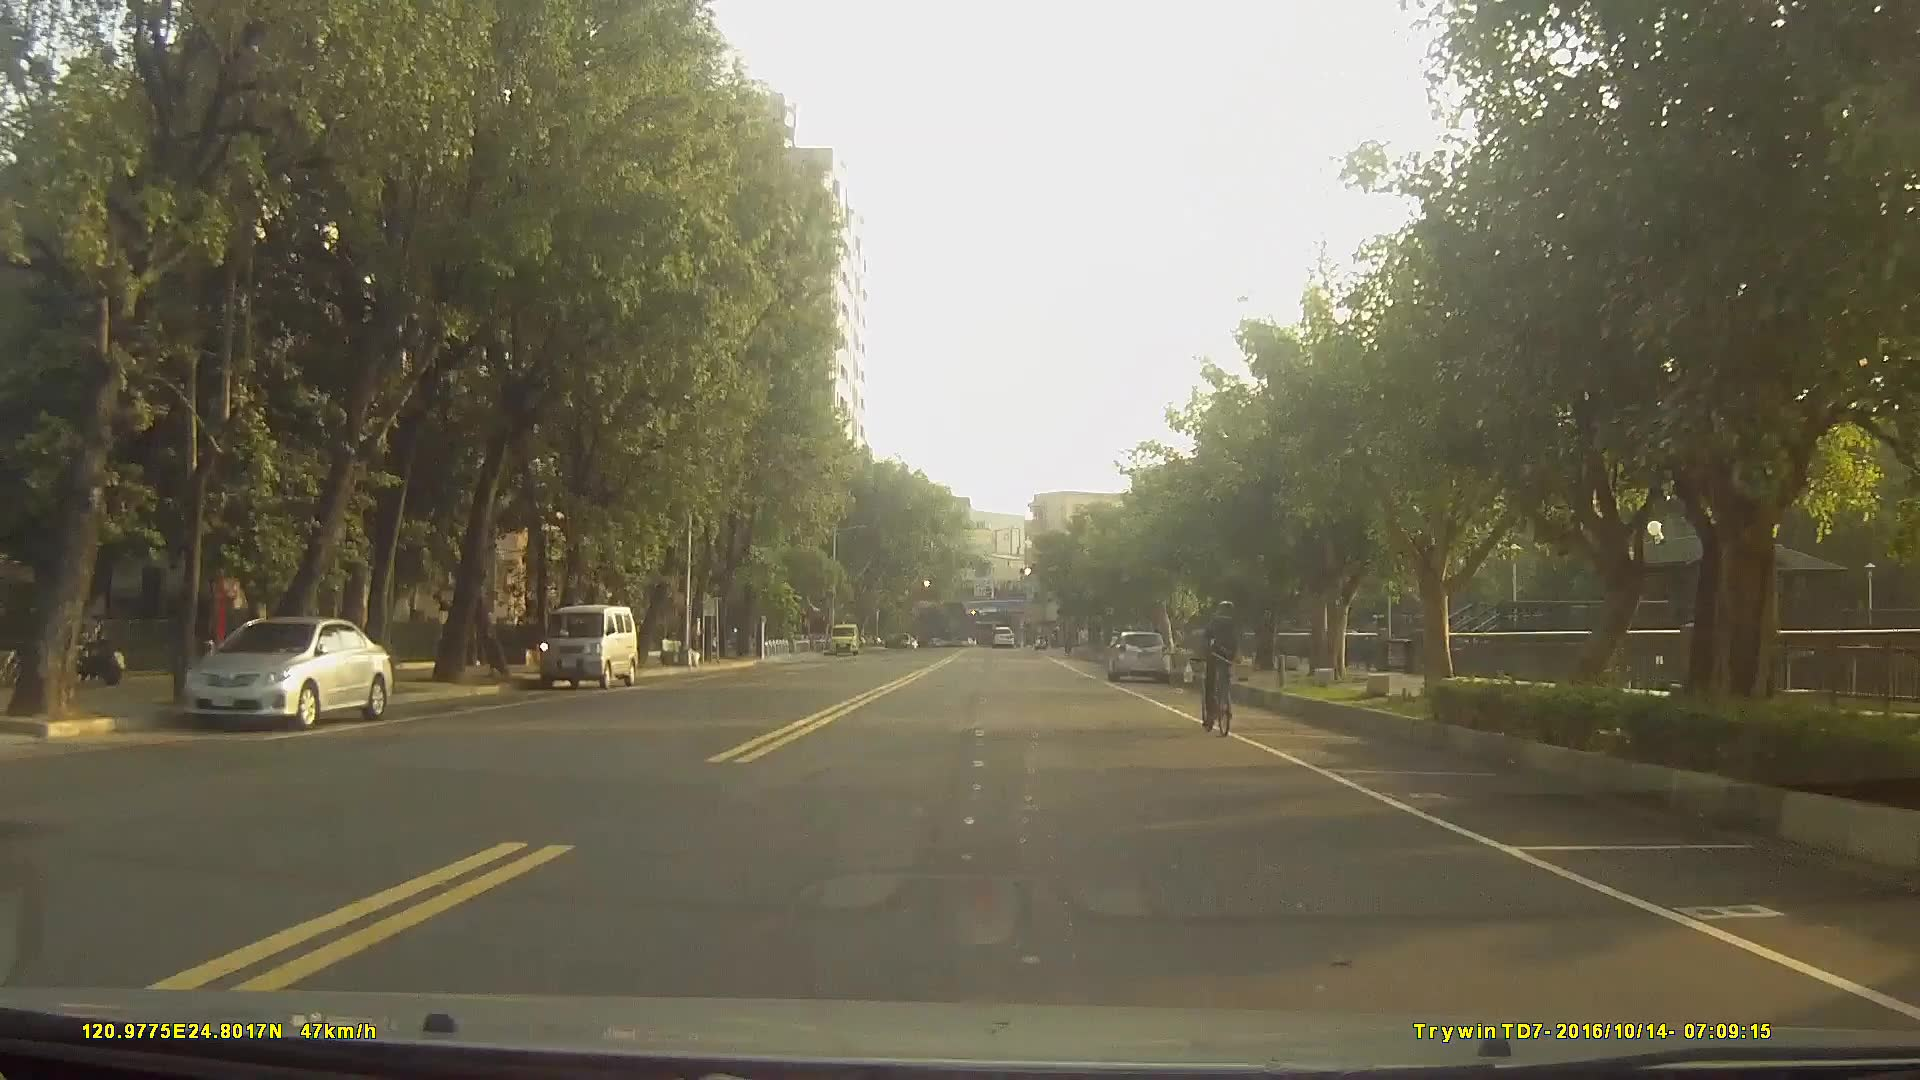rider: (1201, 597, 1242, 733)
vehicle: (180, 618, 393, 734), (539, 603, 639, 690), (1104, 628, 1173, 684), (988, 624, 1014, 651)
